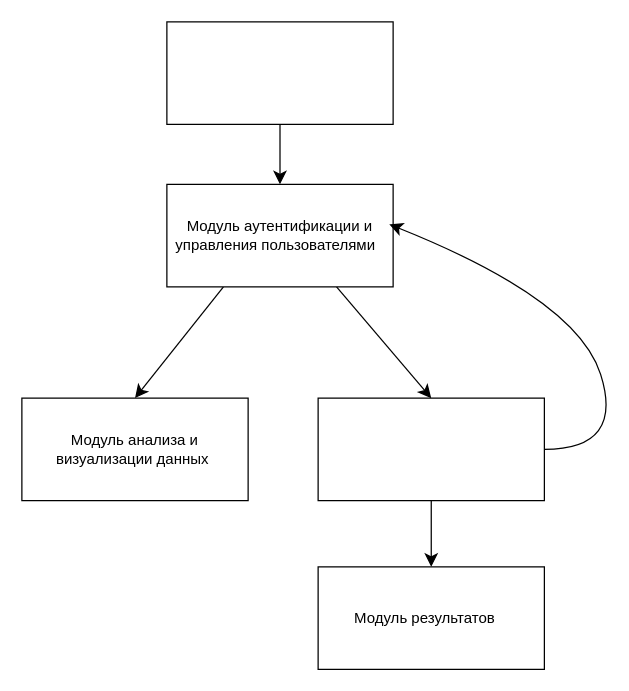
This 629x691 diagram has some shape labels left out. Here are the shapes that lost their labels. From the top down, the centre of each, then its label:
the point at 279,72: Административный модуль
the point at 430,449: Модуль ввода и редактирования данных
